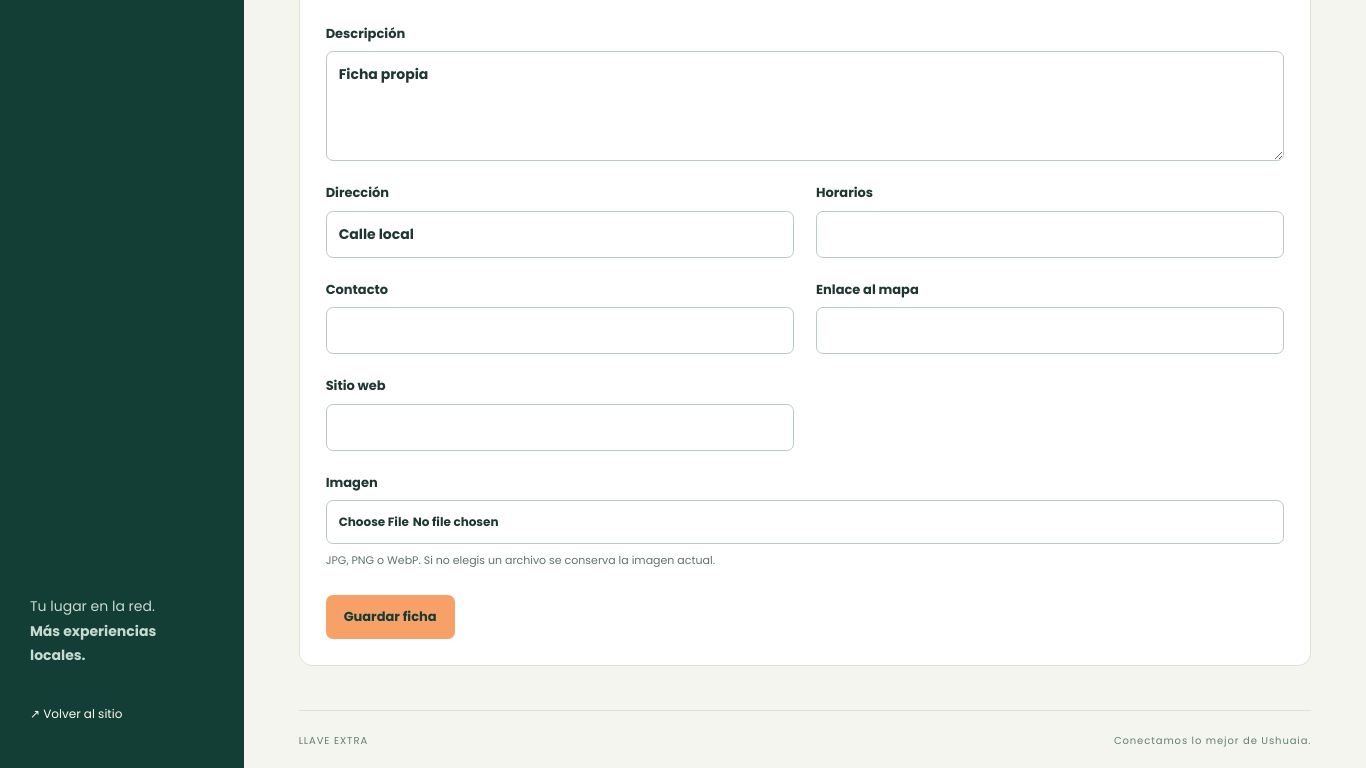
Test: paneles operativos por rol › cierra la ficha del negocio si el PATCH responde 401 y falla la renovación
(page scrolled)
What coordinates should you click on to do the following:
click the button "Guardar ficha"
I would click on:
 (390, 617)
Its box is [326,595,455,639].
(page scrolled)
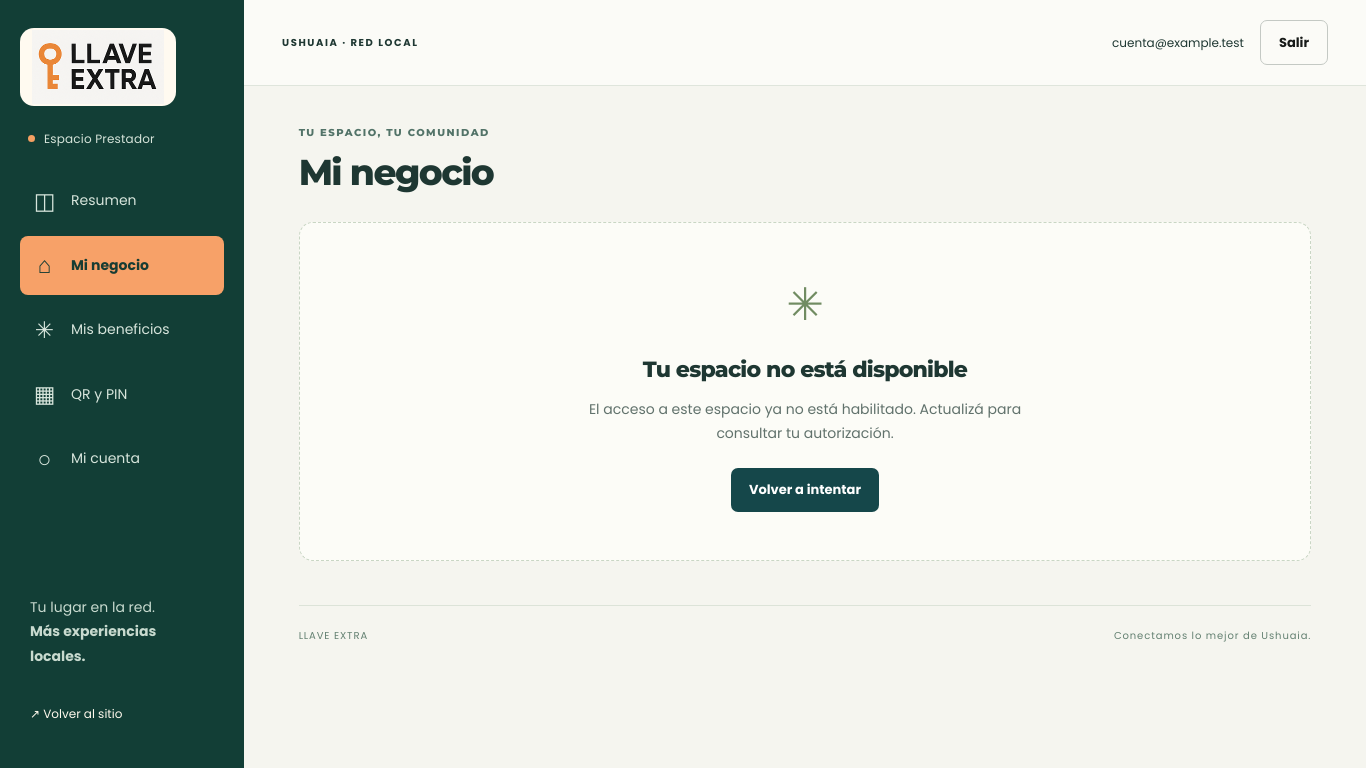
expect the heading "Tu espacio no está disponible" is shown: met, box [643,356,967,383]
